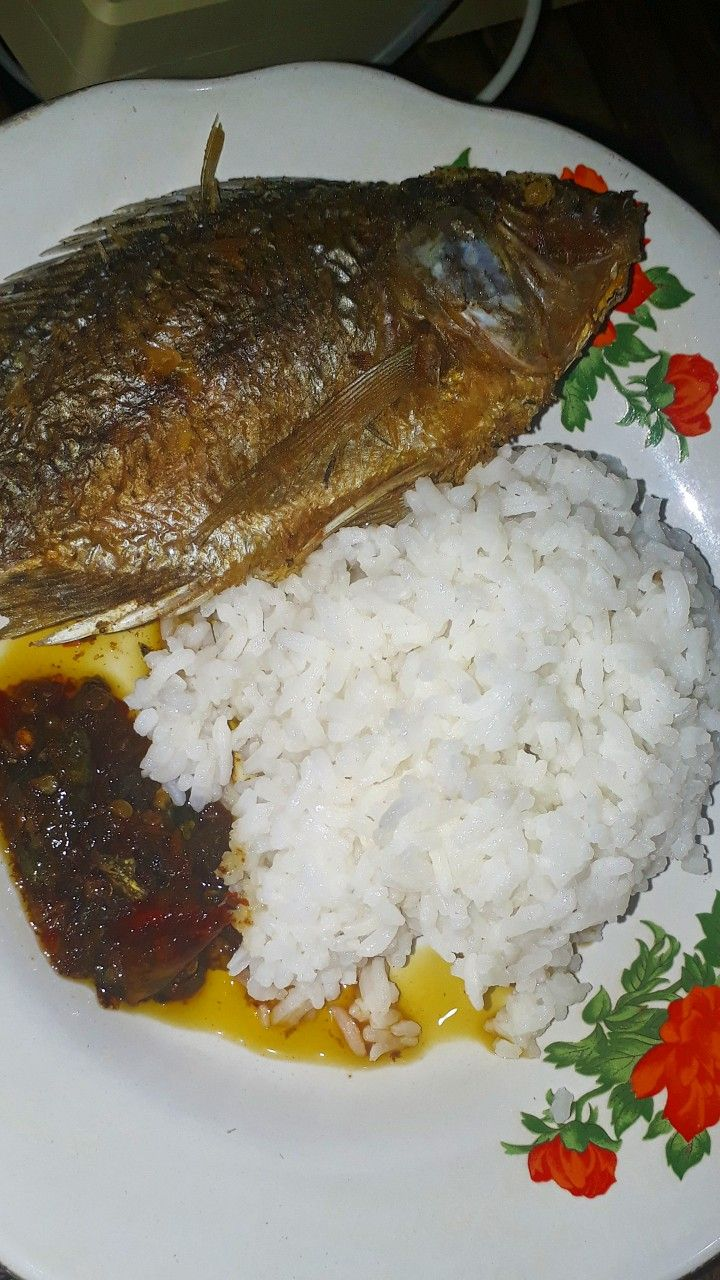buah_sayur_vitA: (20, 764, 116, 942)
daging: (37, 244, 356, 505)
makanan_berpati: (342, 569, 620, 922)
